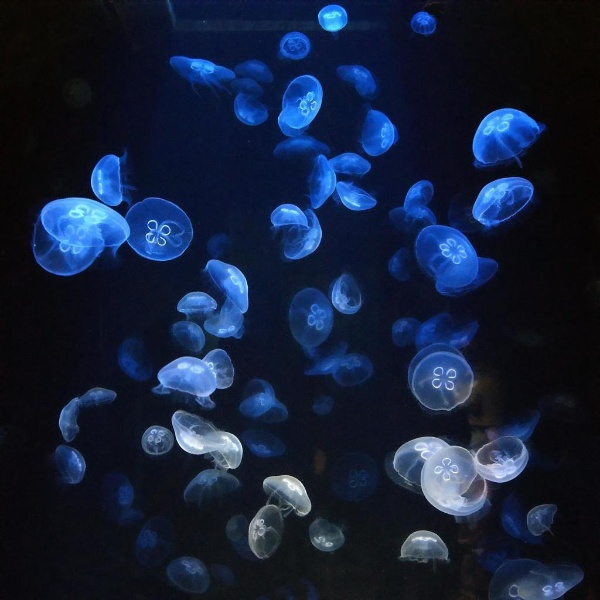Jellyfish: (30, 4, 584, 600)
